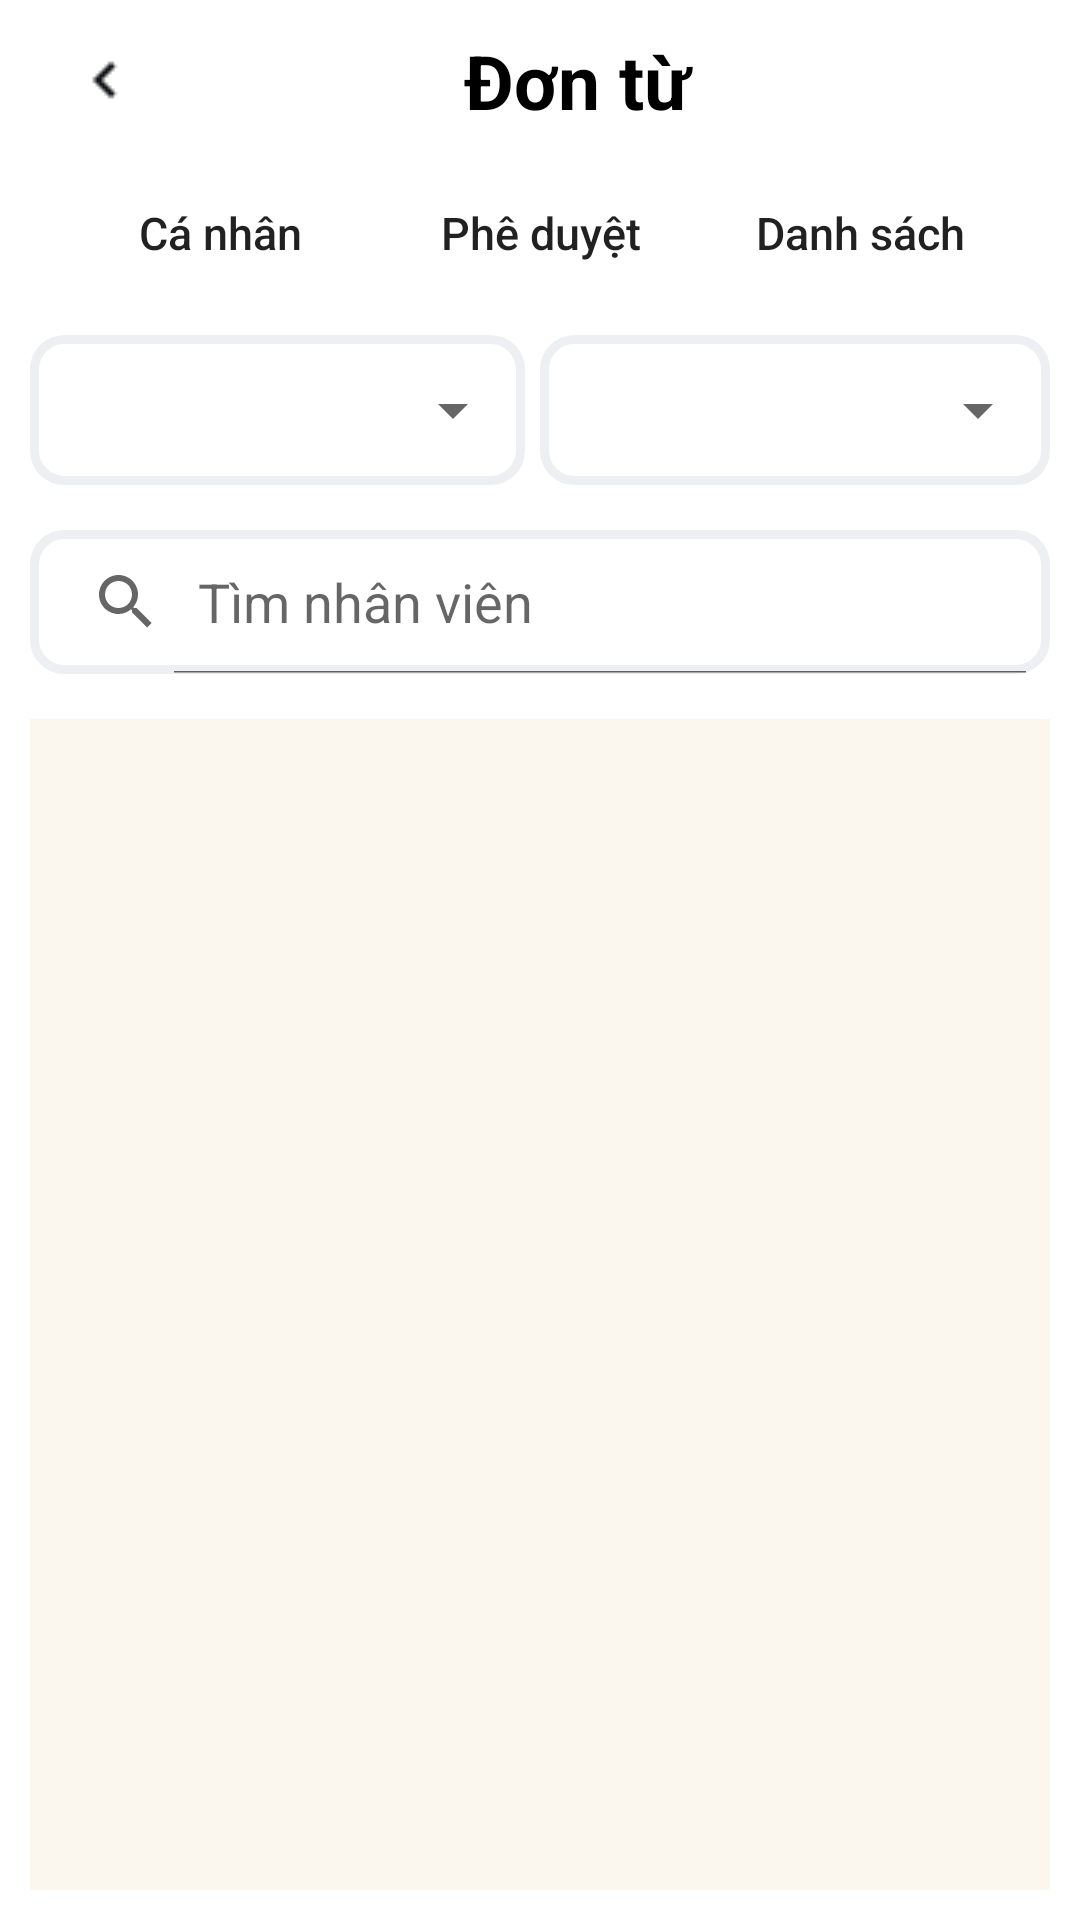

Icons on this 1080px x 1920px Android screen, each with its box as (x1, y1, x2, y2):
back: (92, 61, 117, 99)
